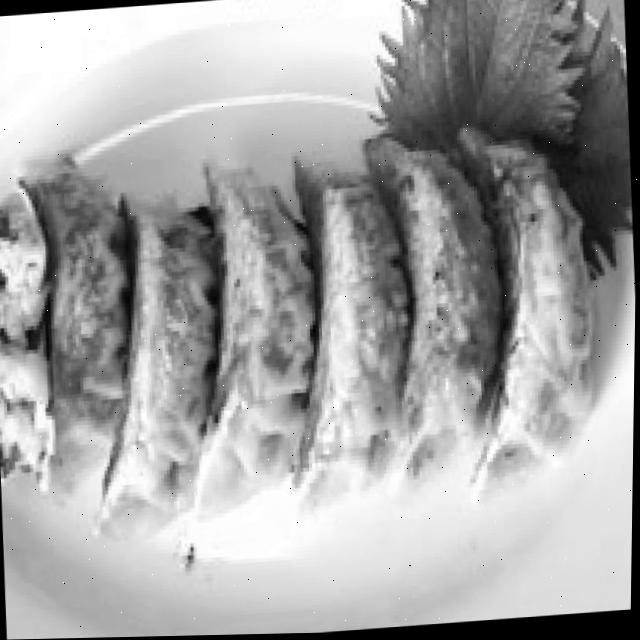带馅早点: (0, 88, 635, 553)
